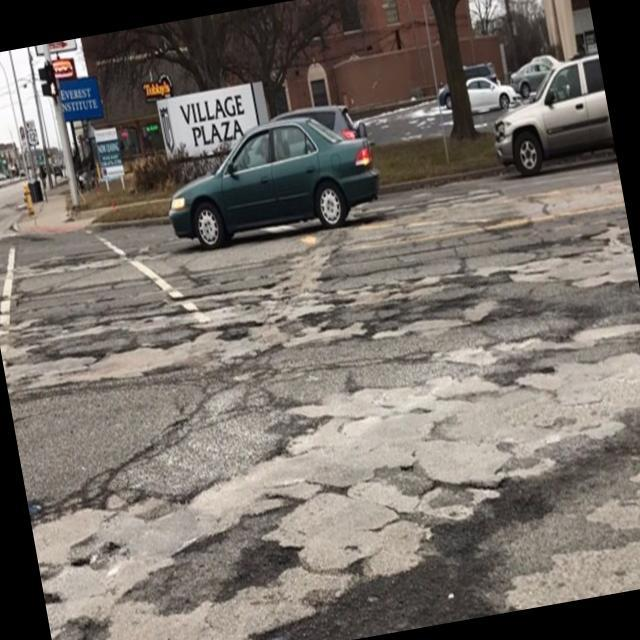Pothole: (42, 582, 64, 614), (67, 548, 96, 572), (533, 360, 558, 382), (102, 538, 121, 562)
